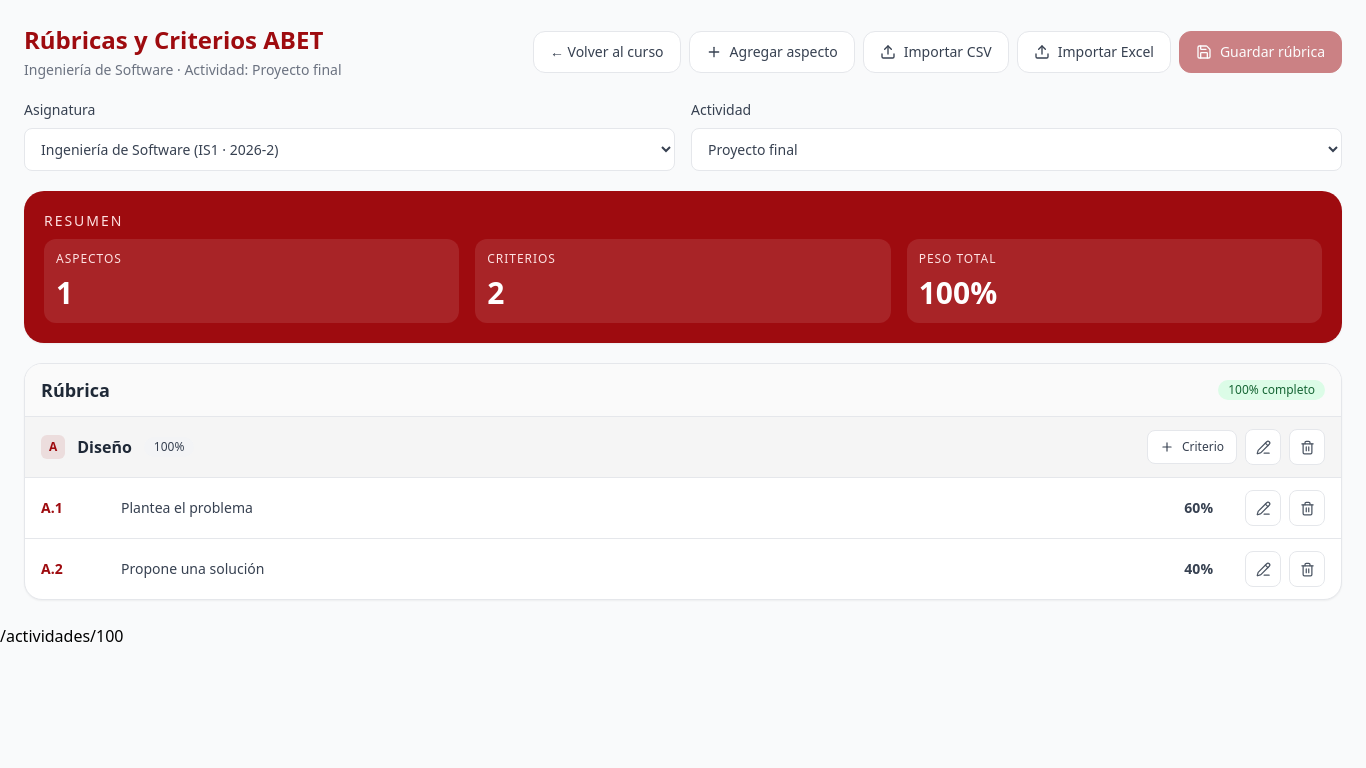
Test: RubricaPage — editar el borrador › un criterio nuevo propone el peso restante y valida texto y peso
The image size is (1366, 768).
Expected: the button named "Eliminar Diseño" is shown, [1289,429,1325,465]
# Quitar el de 40 %: faltan 40
Click the button named "Eliminar Propone una solución" at coordinates (1307, 569), box [1289,551,1325,587]
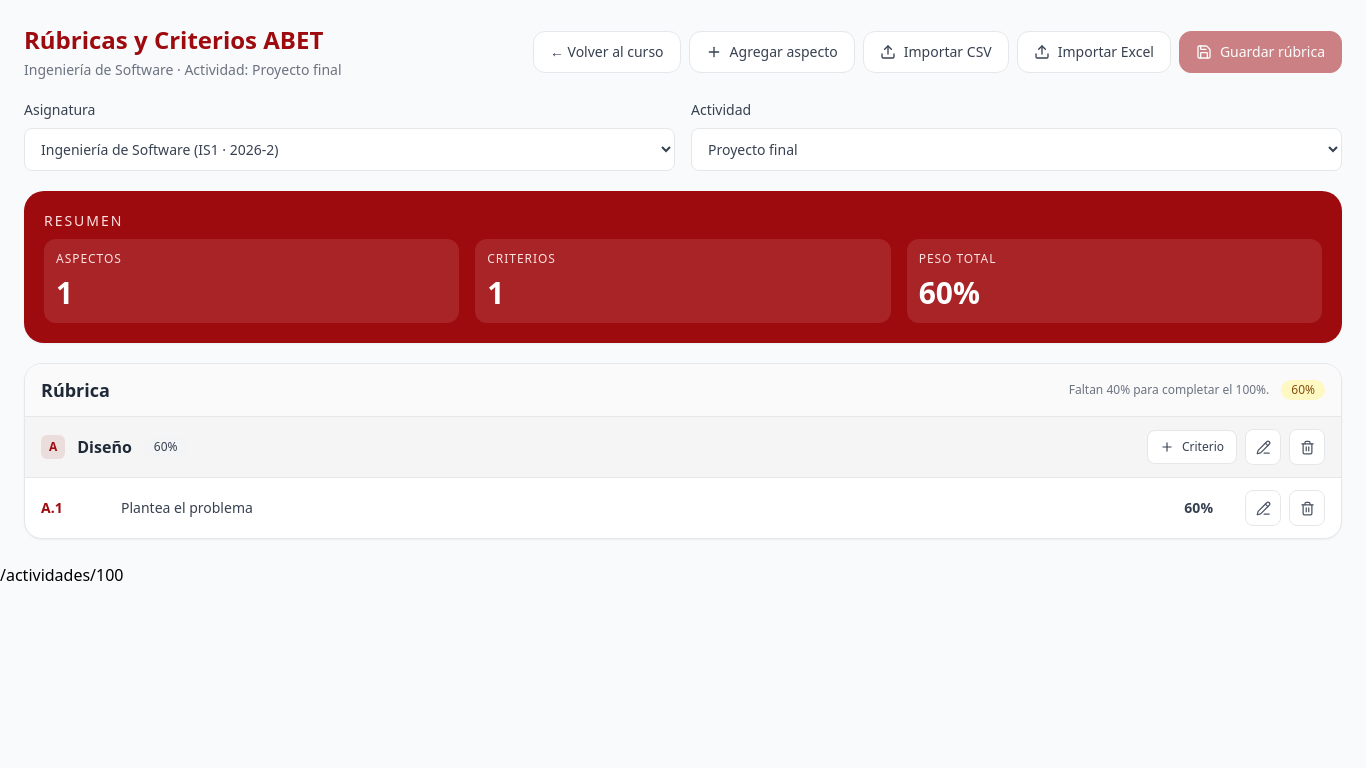
Result: the text "Faltan 40% para completar el 100%." is shown at [1069,382,1269,398]
Click the button "Criterio" at coordinates (1192, 447), box [1147,430,1237,464]
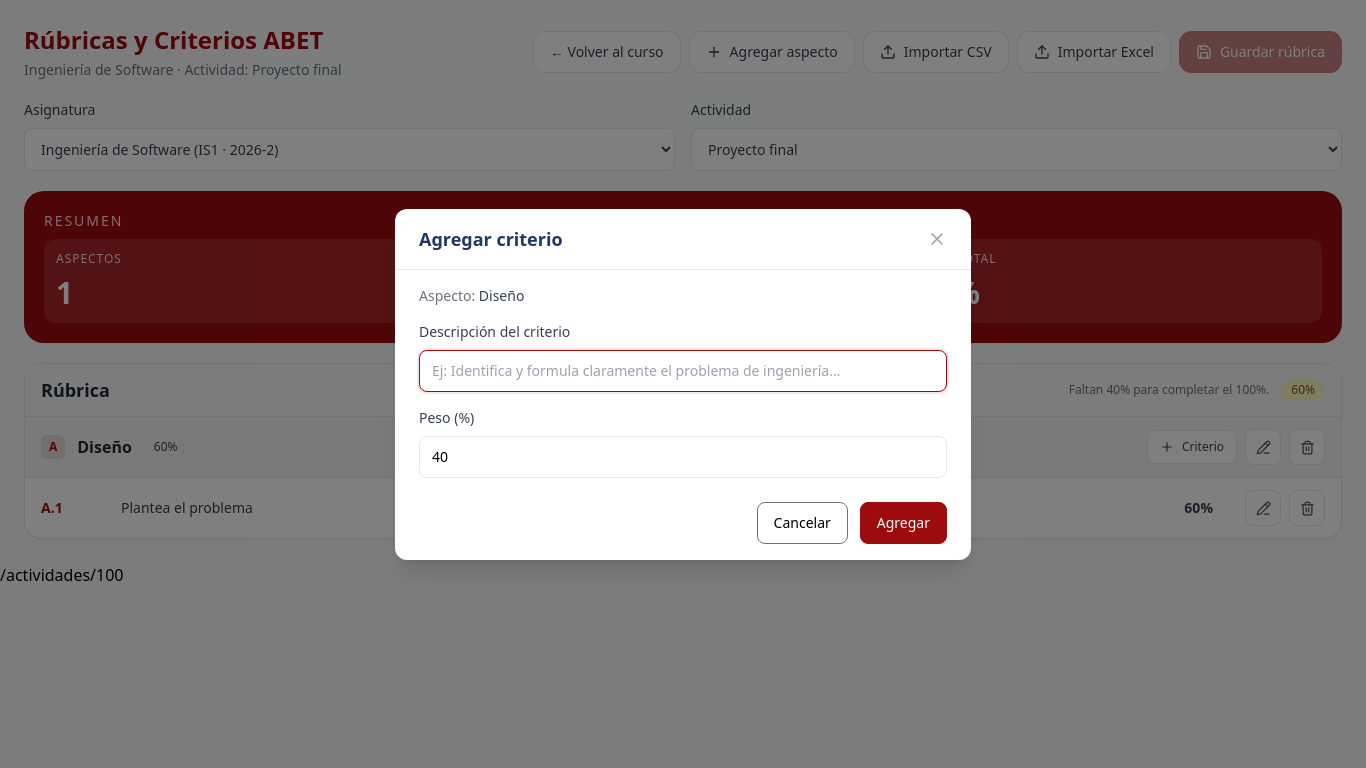
Result: the text "Diseño" is shown at [479,286,524,304]
Result: the number field with placeholder "20" holds "40" at [419,436,947,478]
Click the button "Agregar" at coordinates (903, 522), box [860,502,947,544]
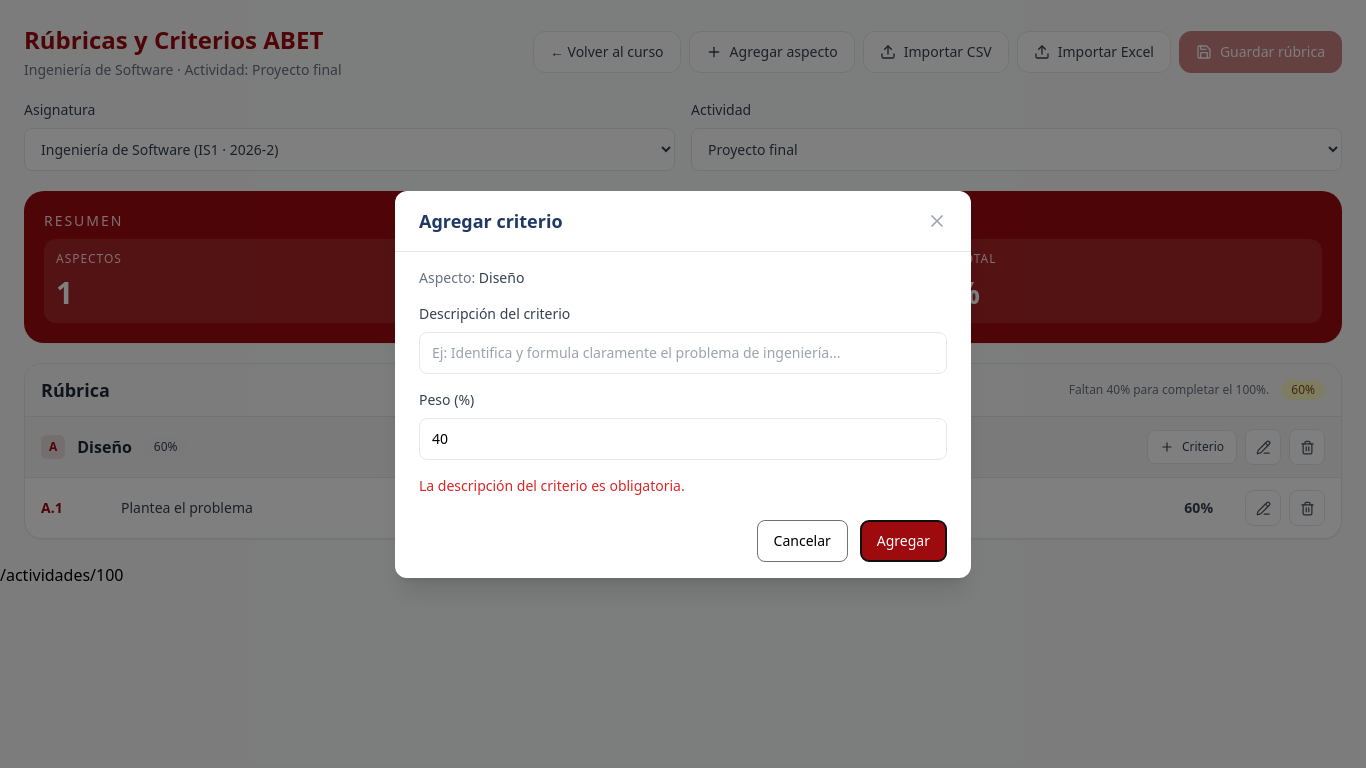
Result: the text "La descripción del criterio es obligatoria." is shown at [419,476,685,494]
Type "Justifica la solución" into the field with placeholder "Identifica y formula" at coordinates (683, 352), box [419,332,947,374]
Replace the text in the number field with "0" at coordinates (683, 438), box [419,418,947,460]
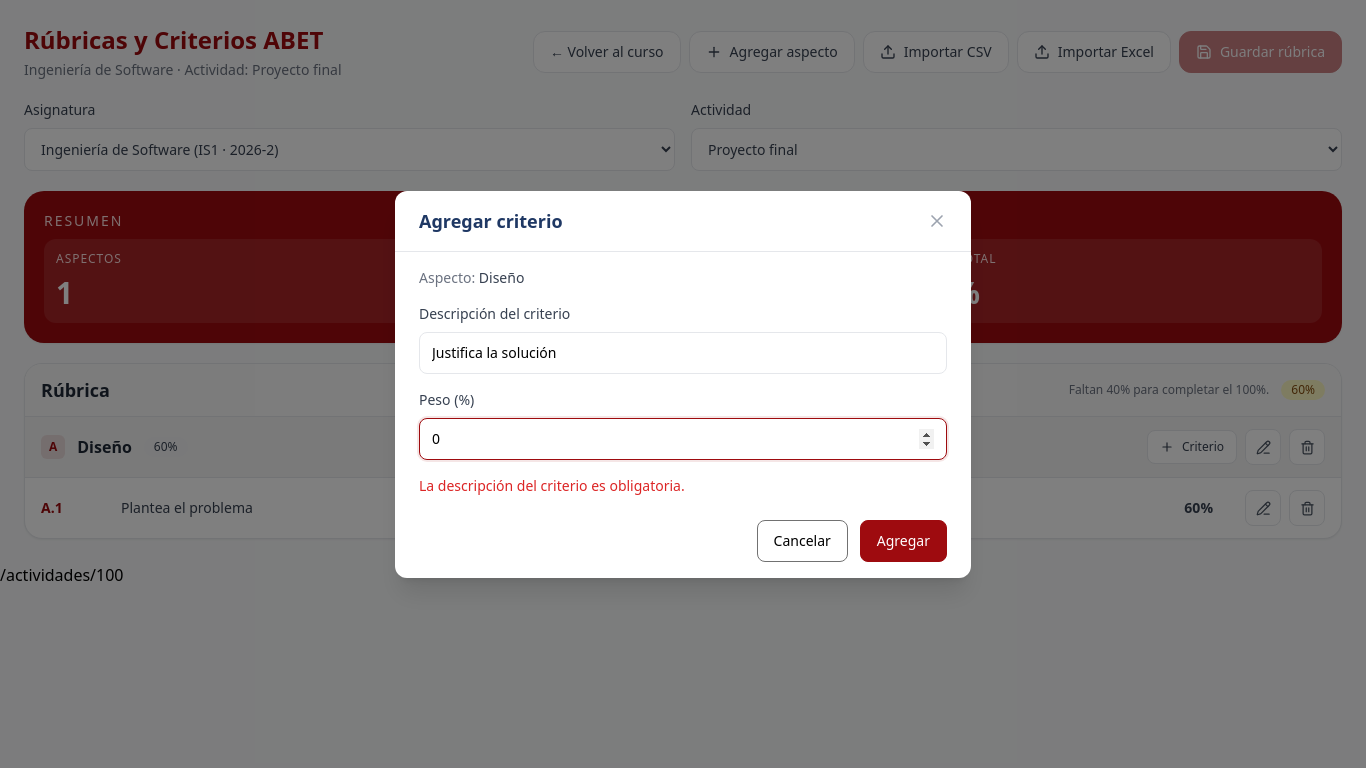
Click the button "Agregar" at coordinates (903, 540), box [860,520,947,562]
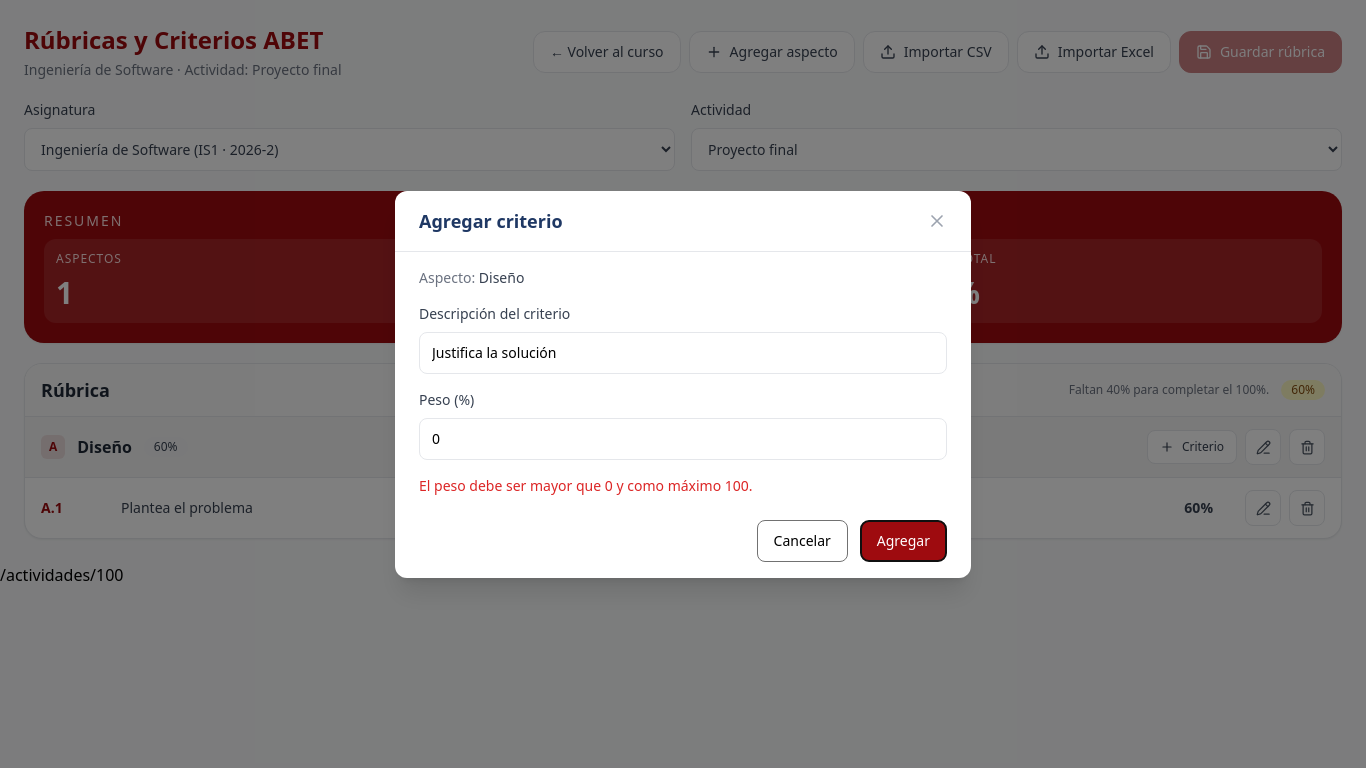
Result: the text "El peso debe ser mayor que 0 y como máximo 100." is shown at [419,476,753,494]
Replace the text in the number field with "50" at coordinates (683, 438), box [419,418,947,460]
Click the button "Agregar" at coordinates (903, 540), box [860,520,947,562]
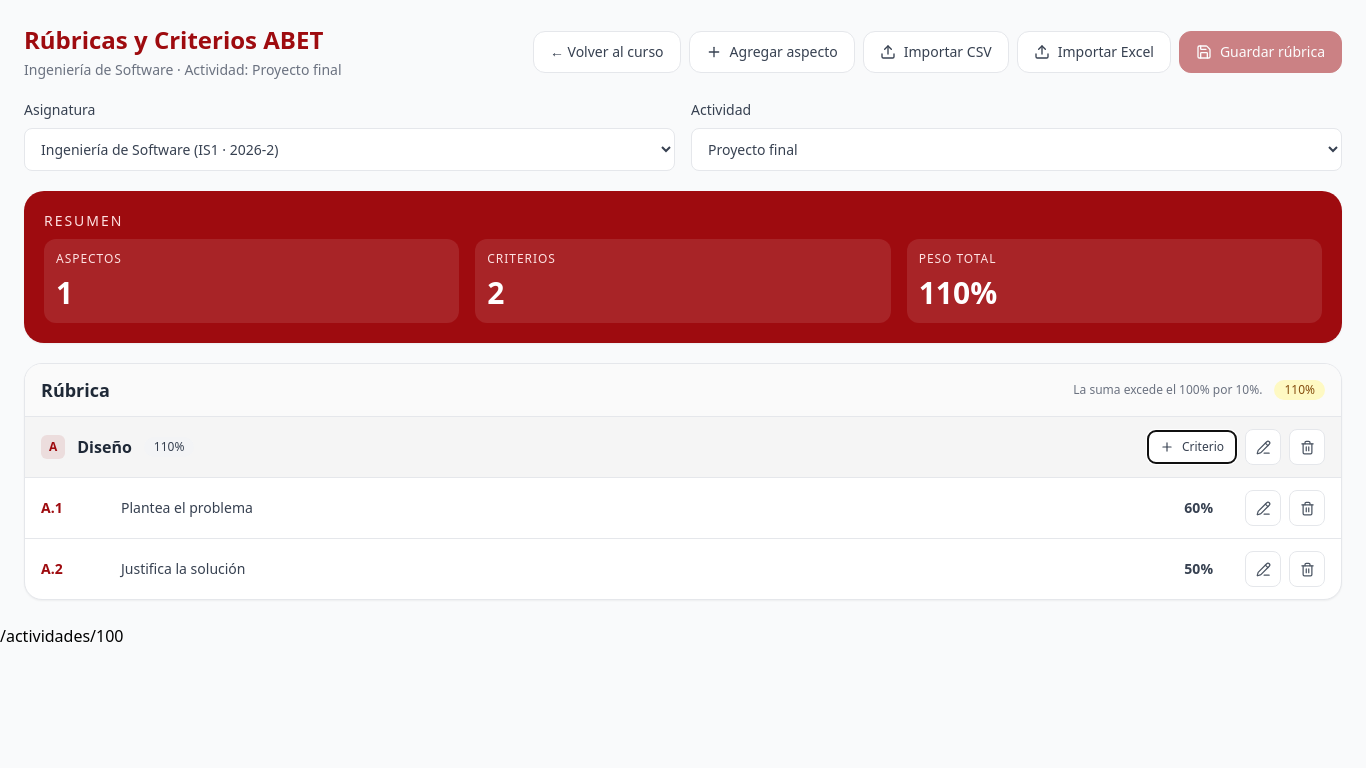
Result: the text "La suma excede el 100% por 10%." is shown at [1073,382,1262,398]
